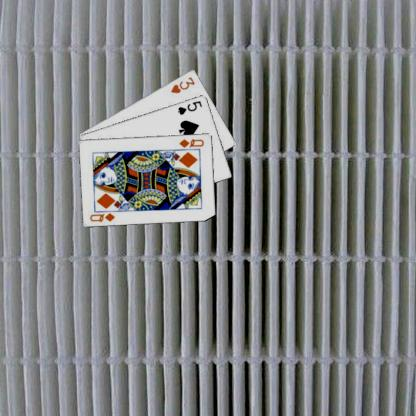3H: (168, 74, 196, 95)
5S: (175, 98, 203, 116)
QD: (87, 210, 116, 224), (177, 136, 205, 148)
